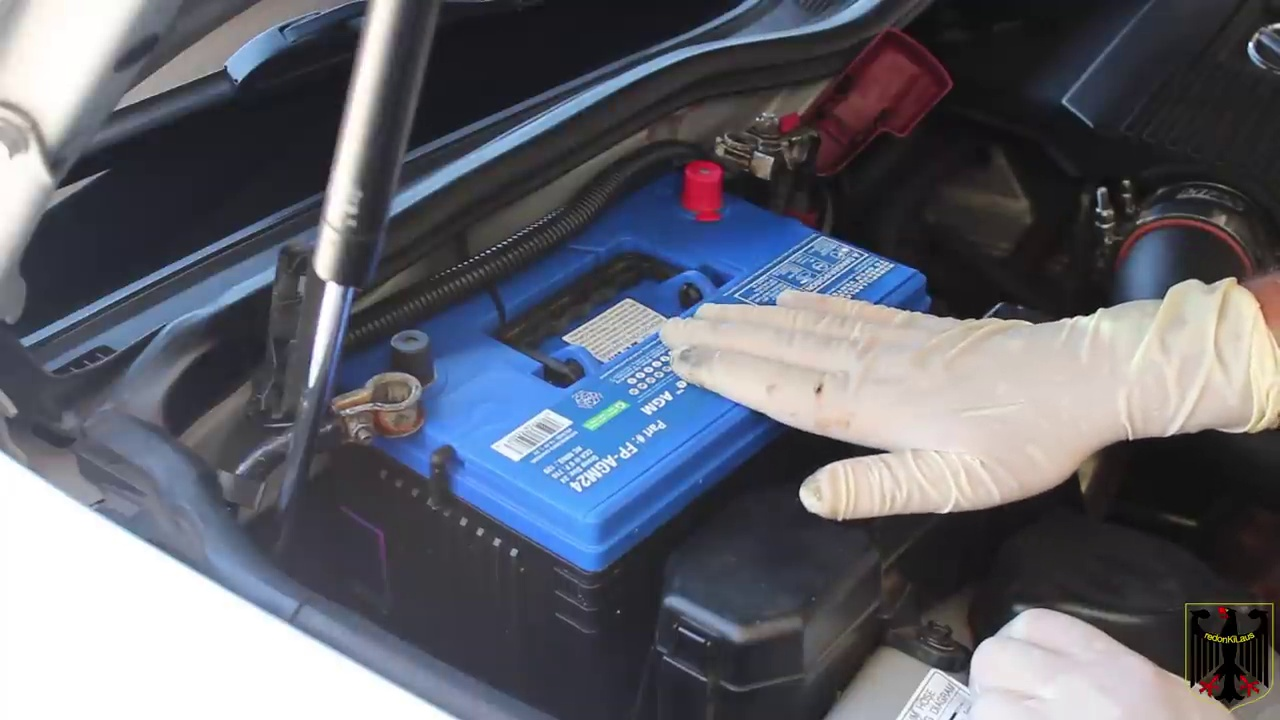battery: (298, 145, 926, 514)
pos_disconnected: (648, 45, 913, 220)
